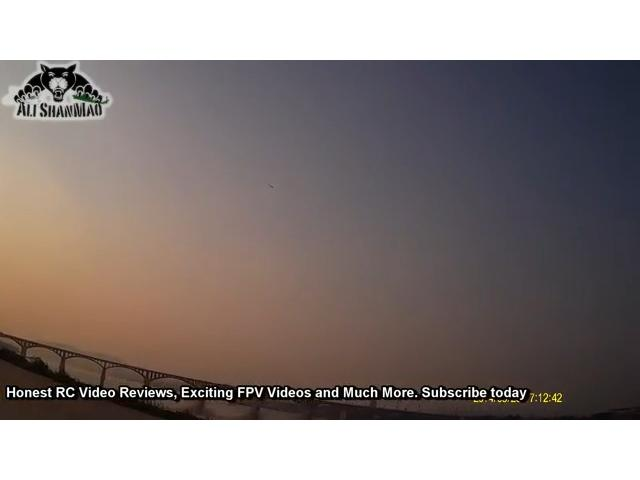Anti-Drone: (263, 175, 281, 193)
